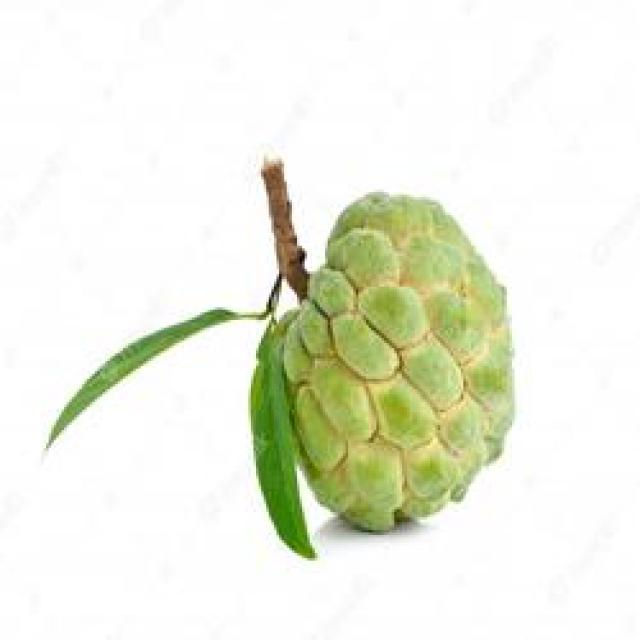apple: (225, 120, 525, 556)
